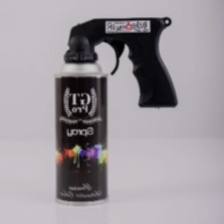aerosol_cans: (52, 37, 112, 209)
